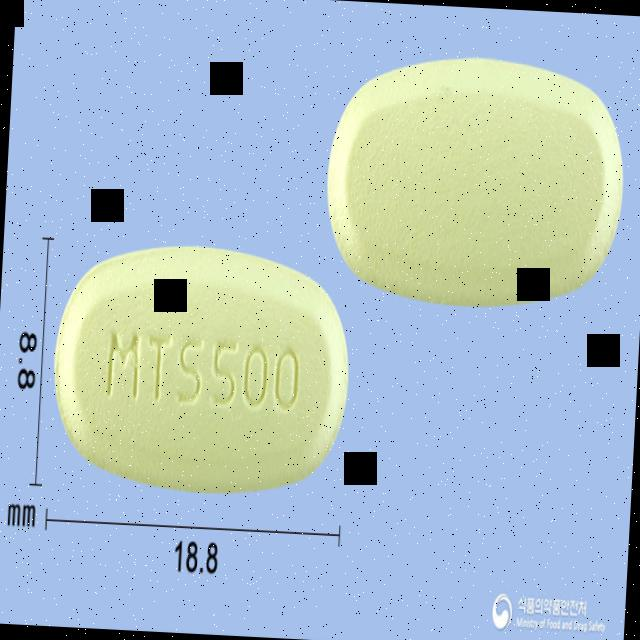Clarimacin: (41, 238, 360, 506)
